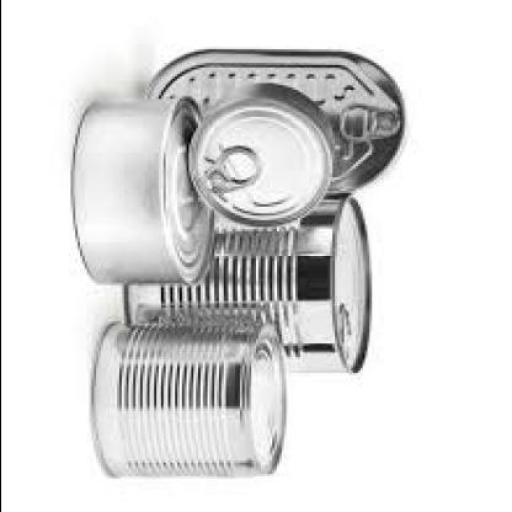metal: (125, 198, 373, 377), (144, 50, 407, 197), (93, 323, 287, 478), (76, 98, 216, 288), (192, 85, 336, 229)
